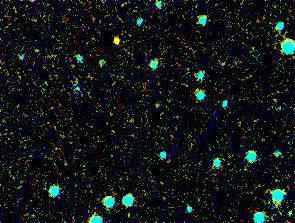star: (105, 22, 135, 52)
